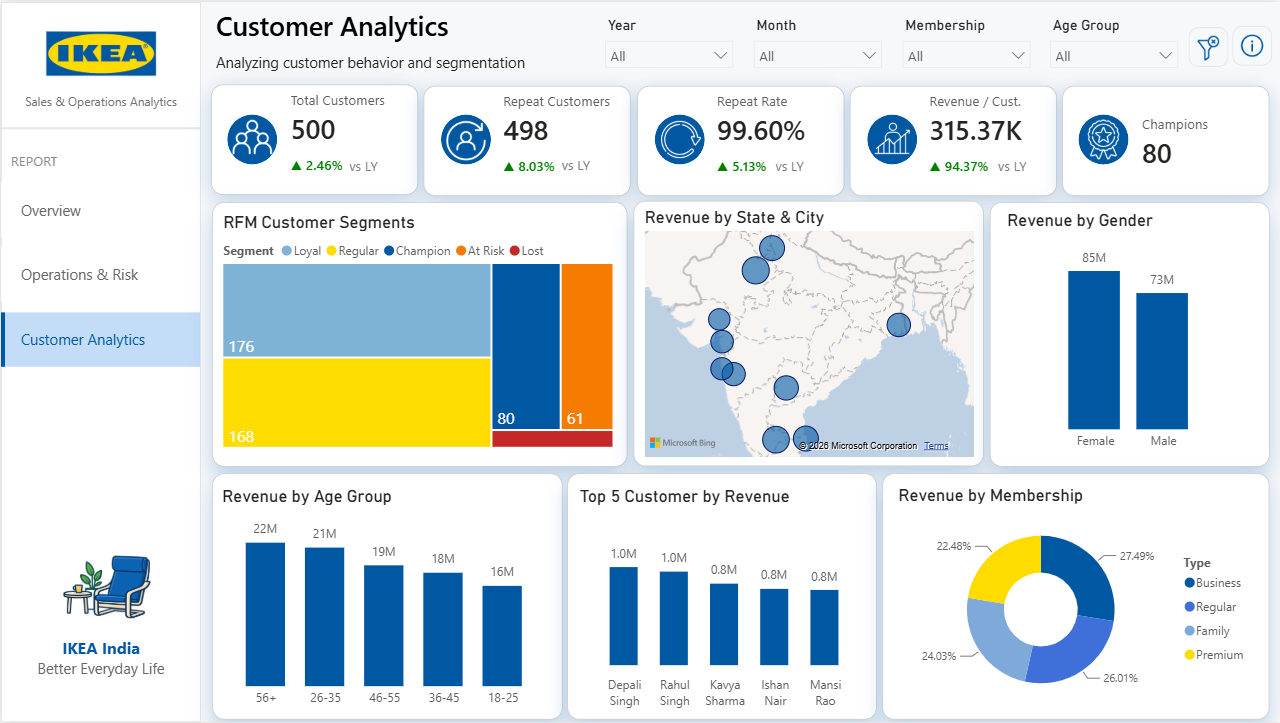

This screenshot's page, from the dashboard's own definition file:
{"tool":"powerbi","page":{"name":"Customer Analytics","canvas":[1280,720],"ordinal":2},"visuals":[{"type":"group","id":"g1","title":"Group 13","box":[0,0,200,720],"z":0},{"type":"shape","title":"Menu BG","box":[0,0,200,720],"z":0,"group":"g1"},{"type":"image","title":"IKEA LOGO","box":[30,10,140,80],"z":0,"group":"g3"},{"type":"shape","box":[1231.4,24,40,40],"z":0,"group":"g6"},{"type":"shape","box":[1187.7,25,40,40],"z":0,"group":"g5"},{"type":"cardVisual","fields":{"Data":["_Measures.Total Customers"]},"box":[210,82.5,207.5,110],"z":0,"group":"g7"},{"type":"pageNavigator","title":"Menu Buttons","box":[0,180,199,187.5],"z":0,"group":"g4"},{"type":"image","title":"IKEA Illustration","box":[0,483,200,200],"z":0,"group":"g2"},{"type":"textbox","box":[210,0,253.8,50],"z":1000},{"type":"textbox","box":[0,85,200,30],"z":1000,"group":"g3"},{"type":"shape","box":[226.2,112.5,50,50],"z":1000,"group":"g7"},{"type":"shape","title":"Divider","box":[0,115,200,22.5],"z":1000,"group":"g1"},{"type":"textbox","title":"REPORT","box":[5,145,65,36.2],"z":1000,"group":"g4"},{"type":"shape","box":[881.2,471.2,387.5,246.2],"z":1000,"group":"g17"},{"type":"textbox","title":"Tag Line","box":[8.8,630,182.5,62.5],"z":1000,"group":"g2"},{"type":"textbox","box":[210,45,356.2,30],"z":2000},{"type":"shape","box":[342.5,152.5,40,20],"z":2000,"group":"g7"},{"type":"shape","box":[988.8,200,280,265],"z":2000,"group":"g14"},{"type":"group","id":"g2","title":"IKEA Illustration & TagLine","box":[0,483,200,209.5],"z":2000,"group":"g1"},{"type":"group","id":"g3","title":"IKEA LOGO","box":[0,10,200,105],"z":3000,"group":"g1"},{"type":"slicer","fields":{"Values":["Calendar.Month"]},"box":[742.2,10,148.8,65],"z":3000},{"type":"image","box":[231.2,115,40,40],"z":3000,"group":"g7"},{"type":"shape","box":[632.7,198.2,350,265.8],"z":3000,"group":"g13"},{"type":"slicer","fields":{"Values":["Calendar.Year"]},"box":[593.8,10,148.8,65],"z":4000},{"type":"group","id":"g4","title":"Report Section","box":[0,145,199,222.5],"z":4000,"group":"g1"},{"type":"shape","box":[566.6,471.1,309.2,246.1],"z":4000,"group":"g16"},{"type":"slicer","fields":{"Values":["Customers.Membership_Type"]},"box":[890.6,10,148.8,65],"z":5000},{"type":"slicer","fields":{"Values":["Customers.Age_Group"]},"box":[1039.1,10,148.8,65],"z":6000},{"type":"shape","box":[211.2,471.2,350,246.2],"z":6000,"group":"g15"},{"type":"group","id":"g5","title":"Group 1","box":[1187.7,25,40,40],"z":7000},{"type":"group","id":"g6","title":"Group 12","box":[1231.4,24,40,40],"z":8000},{"type":"group","id":"g7","title":"Group 2","box":[210,82.5,207.5,110],"z":9000},{"type":"shape","box":[211.5,200.4,415.1,265],"z":9000,"group":"g12"},{"type":"group","id":"g8","title":"Group 3","box":[422.8,83.5,207.5,110],"z":10000},{"type":"group","id":"g9","title":"Group 4","box":[635.6,83.5,207.5,110],"z":11000},{"type":"cardVisual","fields":{"Data":["_Measures.Repeat Customers"]},"box":[422.8,83.5,207.5,110],"z":12000,"group":"g8"},{"type":"group","id":"g10","title":"Group 5","box":[848.8,83.5,207.5,110],"z":12000},{"type":"cardVisual","fields":{"Data":["_Measures.Repeat Purchase Rate"]},"box":[635.6,83.5,207.5,110],"z":13000,"group":"g9"},{"type":"group","id":"g11","title":"Group 6","box":[1061.2,83.5,207.5,110],"z":13000},{"type":"cardVisual","fields":{"Data":["_Measures.Revenue Per Customer"]},"box":[848.8,83.5,207.5,110],"z":14000,"group":"g10"},{"type":"group","id":"g12","title":"Group 7","box":[211.5,200.4,415.1,265],"z":14000},{"type":"cardVisual","fields":{"Data":["_Measures.Champion Customers"]},"box":[1061.2,83.5,207.5,110],"z":15000,"group":"g11"},{"type":"group","id":"g13","title":"Group 8","box":[632.7,198.2,350,265.8],"z":15000},{"type":"group","id":"g14","title":"Group 9","box":[988.8,200,280,265],"z":16000},{"type":"group","id":"g15","title":"Group 10","box":[211.2,471.2,350,246.2],"z":17000},{"type":"group","id":"g16","title":"Group 11","box":[566.6,471.1,309.2,246.1],"z":18000},{"type":"treemap","title":"RFM Customer Segments","fields":{"Values":["_Measures.RFM Segment Customer Count"],"Group":["RFM Segment Table.RFM Segment"]},"box":[217.9,209.9,399.2,240],"z":19000,"group":"g12"},{"type":"group","id":"g17","title":"Group 14","box":[881.2,471.2,387.5,246.2],"z":19000},{"type":"map","title":"Revenue by State & City","fields":{"Size":["_Measures.Total Revenue"],"Category":["Customers.City"]},"box":[638.7,204.2,339,255],"z":20000,"group":"g13"},{"type":"shape","box":[555.5,152.3,39.8,19.3],"z":21000,"group":"g8"},{"type":"clusteredColumnChart","title":"Revenue by Gender","fields":{"Category":["Customers.Gender"],"Y":["_Measures.Total Revenue"]},"box":[1001.3,207.5,255,250],"z":21000,"group":"g14"},{"type":"clusteredColumnChart","title":"Revenue by Age Group","fields":{"Y":["_Measures.Total Revenue"],"Category":["Customers.Age_Group"]},"box":[216.3,483.5,335.6,230.6],"z":21000,"group":"g15"},{"type":"shape","box":[768.3,152.3,39.8,20.5],"z":22000,"group":"g9"},{"type":"clusteredColumnChart","title":"Top 5 Customer by Revenue","fields":{"Category":["Customers.Customer_Name"],"Y":["_Measures.Total Revenue"]},"box":[573.7,483.5,291.1,230.6],"z":22000,"group":"g16"},{"type":"image","box":[1195.6,33.6,25,25],"z":22001,"group":"g5"},{"type":"image","box":[1239.2,31.6,25,25],"z":22002,"group":"g6"},{"type":"shape","box":[991.3,152.3,40,20],"z":23000,"group":"g10"},{"type":"donutChart","title":"Revenue by Membership","fields":{"Y":["_Measures.Total Revenue"],"Category":["Customers.Membership_Type"]},"box":[892.4,482.4,365,231.2],"z":23000,"group":"g17"},{"type":"shape","box":[440.6,112.5,50,50],"z":25000,"group":"g8"},{"type":"shape","box":[652.5,112.5,50,50],"z":26000,"group":"g9"},{"type":"shape","box":[865.7,112.5,50,50],"z":27000,"group":"g10"},{"type":"shape","box":[1077.4,112.5,50,50],"z":28000,"group":"g11"},{"type":"image","box":[445.3,118.5,40,40],"z":30000,"group":"g8"},{"type":"image","box":[659.4,117.3,40,40],"z":31000,"group":"g9"},{"type":"image","box":[873.8,118.5,35,35],"z":32000,"group":"g10"},{"type":"image","box":[1082.4,117.3,40,40],"z":33000,"group":"g11"}]}

Visuals, with their boxes in screenshot pixels (x1, y1, x2, y2), scaled from the page's 1280x720 canvas onto the 1280x723 screenshot:
"Group 13" group: <box>0,0,200,722</box>
"Menu BG" shape: <box>0,0,200,722</box>
"IKEA LOGO" image: <box>30,10,170,90</box>
shape: <box>1231,24,1271,64</box>
shape: <box>1188,25,1228,65</box>
cardVisual - _Measures.Total Customers: <box>210,83,418,193</box>
"Menu Buttons" pageNavigator: <box>0,181,199,369</box>
"IKEA Illustration" image: <box>0,485,200,686</box>
textbox: <box>210,0,464,50</box>
textbox: <box>0,85,200,115</box>
shape: <box>226,113,276,163</box>
"Divider" shape: <box>0,115,200,138</box>
"REPORT" textbox: <box>5,146,70,182</box>
shape: <box>881,473,1269,720</box>
"Tag Line" textbox: <box>9,633,191,695</box>
textbox: <box>210,45,566,75</box>
shape: <box>342,153,382,173</box>
shape: <box>989,201,1269,467</box>
"IKEA Illustration & TagLine" group: <box>0,485,200,695</box>
"IKEA LOGO" group: <box>0,10,200,115</box>
slicer - Calendar.Month: <box>742,10,891,75</box>
image: <box>231,115,271,156</box>
shape: <box>633,199,983,466</box>
slicer - Calendar.Year: <box>594,10,743,75</box>
"Report Section" group: <box>0,146,199,369</box>
shape: <box>567,473,876,720</box>
slicer - Customers.Membership_Type: <box>891,10,1039,75</box>
slicer - Customers.Age_Group: <box>1039,10,1188,75</box>
shape: <box>211,473,561,720</box>
"Group 1" group: <box>1188,25,1228,65</box>
"Group 12" group: <box>1231,24,1271,64</box>
"Group 2" group: <box>210,83,418,193</box>
shape: <box>212,201,627,467</box>
"Group 3" group: <box>423,84,630,194</box>
"Group 4" group: <box>636,84,843,194</box>
cardVisual - _Measures.Repeat Customers: <box>423,84,630,194</box>
"Group 5" group: <box>849,84,1056,194</box>
cardVisual - _Measures.Repeat Purchase Rate: <box>636,84,843,194</box>
"Group 6" group: <box>1061,84,1269,194</box>
cardVisual - _Measures.Revenue Per Customer: <box>849,84,1056,194</box>
"Group 7" group: <box>212,201,627,467</box>
cardVisual - _Measures.Champion Customers: <box>1061,84,1269,194</box>
"Group 8" group: <box>633,199,983,466</box>
"Group 9" group: <box>989,201,1269,467</box>
"Group 10" group: <box>211,473,561,720</box>
"Group 11" group: <box>567,473,876,720</box>
"RFM Customer Segments" treemap: <box>218,211,617,452</box>
"Group 14" group: <box>881,473,1269,720</box>
"Revenue by State & City" map: <box>639,205,978,461</box>
shape: <box>556,153,595,172</box>
"Revenue by Gender" clusteredColumnChart: <box>1001,208,1256,459</box>
"Revenue by Age Group" clusteredColumnChart: <box>216,486,552,717</box>
shape: <box>768,153,808,174</box>
"Top 5 Customer by Revenue" clusteredColumnChart: <box>574,486,865,717</box>
image: <box>1196,34,1221,59</box>
image: <box>1239,32,1264,57</box>
shape: <box>991,153,1031,173</box>
"Revenue by Membership" donutChart: <box>892,484,1257,717</box>
shape: <box>441,113,491,163</box>
shape: <box>652,113,702,163</box>
shape: <box>866,113,916,163</box>
shape: <box>1077,113,1127,163</box>
image: <box>445,119,485,159</box>
image: <box>659,118,699,158</box>
image: <box>874,119,909,154</box>
image: <box>1082,118,1122,158</box>
